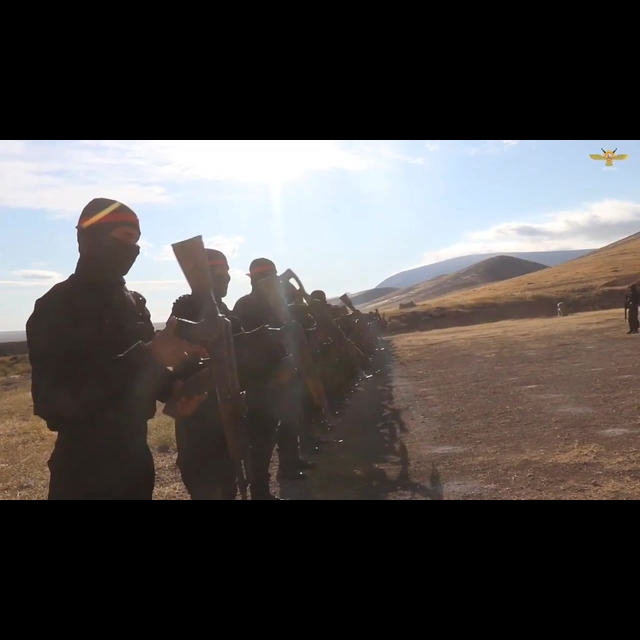AK47: (160, 237, 253, 501)
